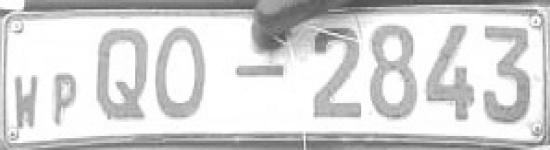-: (310, 21, 370, 126), (232, 55, 295, 85)
3: (479, 17, 535, 130)
4: (424, 17, 479, 131)
8: (370, 20, 422, 125)
O: (156, 24, 215, 122)
P: (48, 69, 81, 128)
Q: (86, 20, 154, 126)
W: (7, 72, 46, 134)
